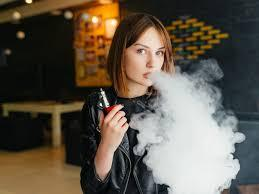smoker: (74, 4, 232, 194)
